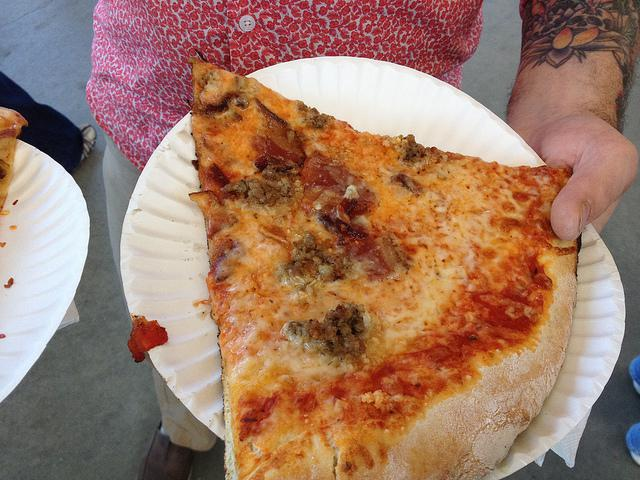hand: (486, 17, 635, 255)
